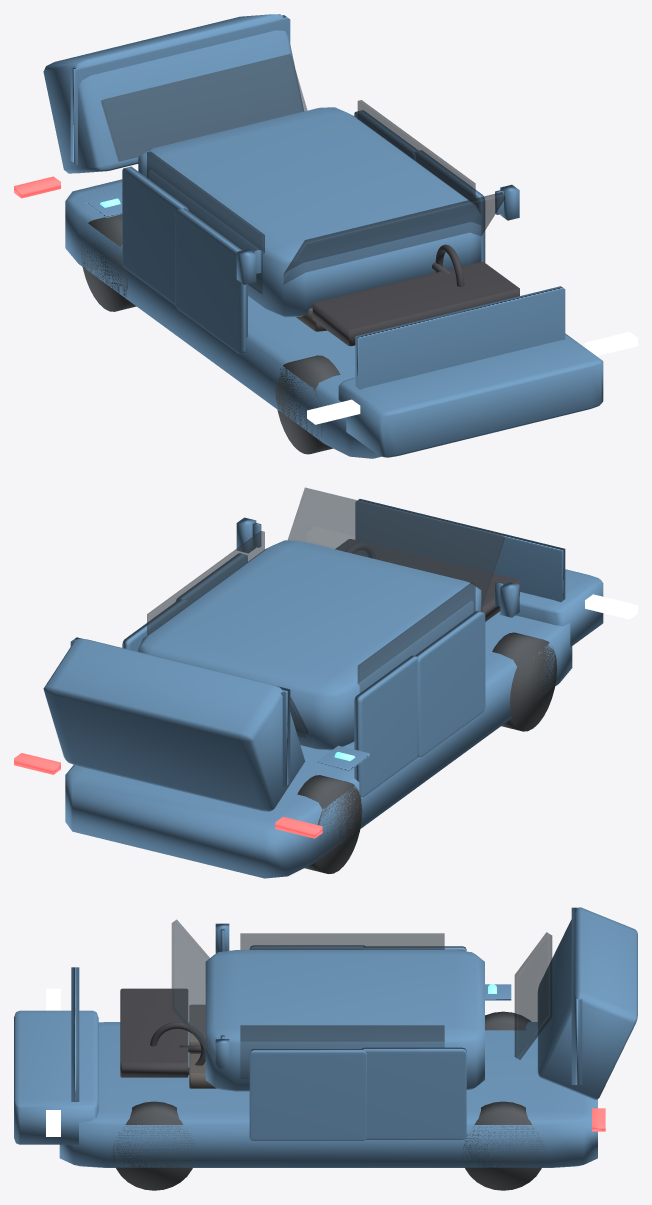
Rendered from compact_sedan.glb.
3 views of the same model, one above another, from view 1: azimuth 30°, elevation 25°; view 2: azimuth 150°, elevation 25°; view 3: azimuth 270°, elevation 25° (orthographic). The views are drawn at different scales.
Parts seen in each view (by area): view 1: cab, hatch, nose, base, rear_window, frunk, dash, door_fl, windshield, door_rl, window_glass, wheel_fl (+9 smaller); view 2: cab, hatch, base, windshield, frunk, door_fl, door_rl, wheel_fl, window_glass, wheel_rl, nose, dash (+11 smaller); view 3: base, cab, hatch, door_fr, nose, door_rr, dash, window_glass.001, windshield, rear_window, window_glass, wheel_fr (+10 smaller).
Boxes of the visible parts, x1,y1,x2,y2 form: cab: (138,107,481,317); hatch: (43,14,303,173); nose: (338,333,603,457); base: (65,179,380,458); rear_window: (101,54,307,161); frunk: (355,286,565,389); dash: (312,262,519,346); door_fl: (175,208,247,353); windshield: (284,192,505,284); door_rl: (122,166,188,304); window_glass: (147,151,264,293); wheel_fl: (275,355,340,454); cab: (138,540,481,750); hatch: (43,638,305,811); base: (65,611,572,878); windshield: (288,487,504,610); frunk: (355,499,565,602); door_fl: (415,611,485,756); door_rl: (354,655,418,796); wheel_fl: (492,632,556,731); window_glass: (357,582,475,692); wheel_rl: (297,775,362,873); nose: (516,569,603,646); dash: (335,539,519,621); base: (59,1022,597,1167); cab: (205,950,484,1091); hatch: (537,907,637,1099); door_fr: (249,1049,366,1140); nose: (14,1010,98,1144); door_rr: (361,1047,466,1139); dash: (120,988,188,1077); window_glass.001: (240,1025,444,1078); windshield: (171,919,214,1059); rear_window: (514,932,552,1059); window_glass: (240,933,444,949); wheel_fr: (113,1101,195,1190).
Size of the model in its own units: 2.45 by 1.53 by 4.58.
